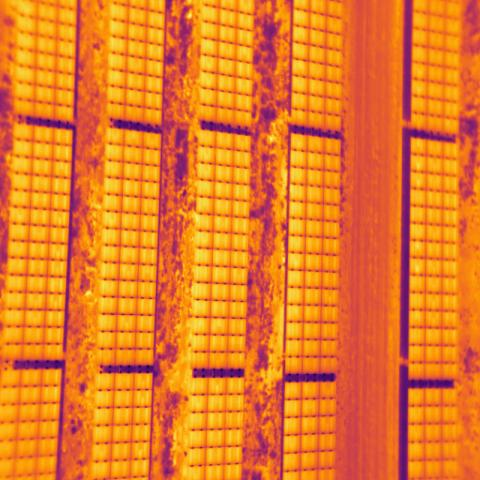fault: (194, 213, 213, 230), (290, 184, 306, 202)
